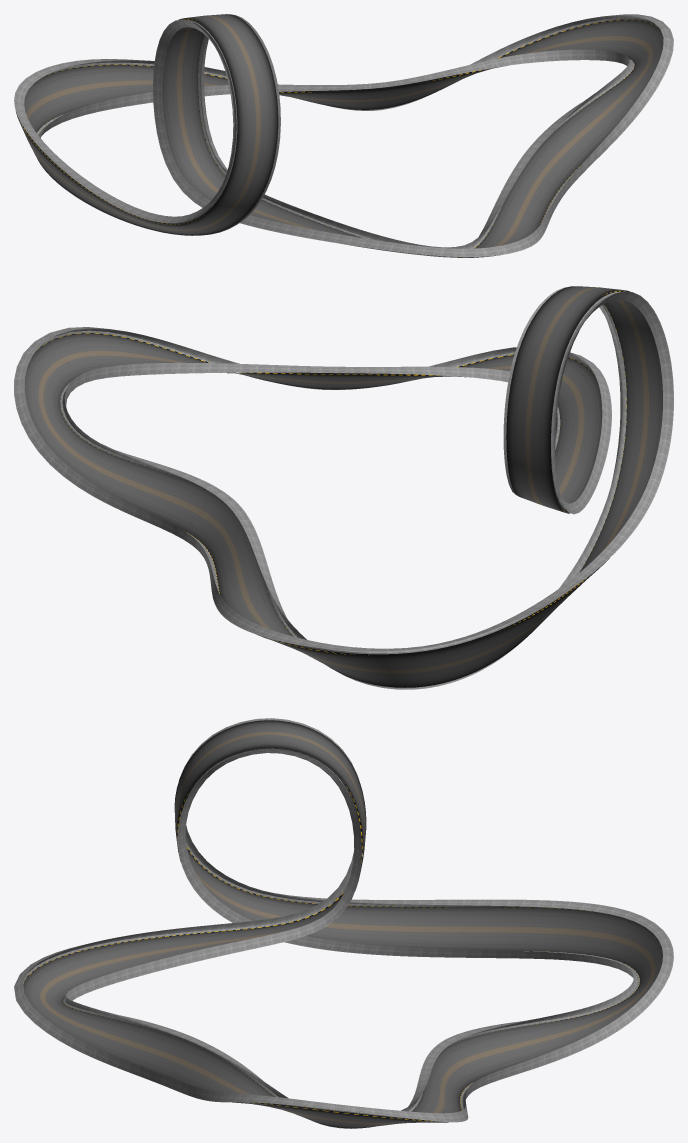
The model's file is FinalSuperTrackEXTRAGandalf.obj.
The picture shows the model from 3 angles, top to bottom: view 1: azimuth 30°, elevation 25°; view 2: azimuth 150°, elevation 25°; view 3: azimuth 270°, elevation 25°; orthographic projection. The views are drawn at different scales.
Parts seen in each view (by area): view 1: TrackGandalf_Plane.016; view 2: TrackGandalf_Plane.016; view 3: TrackGandalf_Plane.016.
Part boxes in pixels (left/top/right/bottom): TrackGandalf_Plane.016: left=14, top=14, right=673, bottom=257; TrackGandalf_Plane.016: left=14, top=286, right=673, bottom=689; TrackGandalf_Plane.016: left=14, top=718, right=673, bottom=1128.
Size of the model in its own units: 217 by 93.03 by 223.
2 materials, 2 textured.
